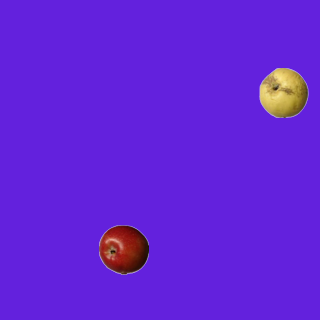Apple Braeburn: (98, 224, 148, 274)
Apple Golden 1: (258, 67, 308, 117)
